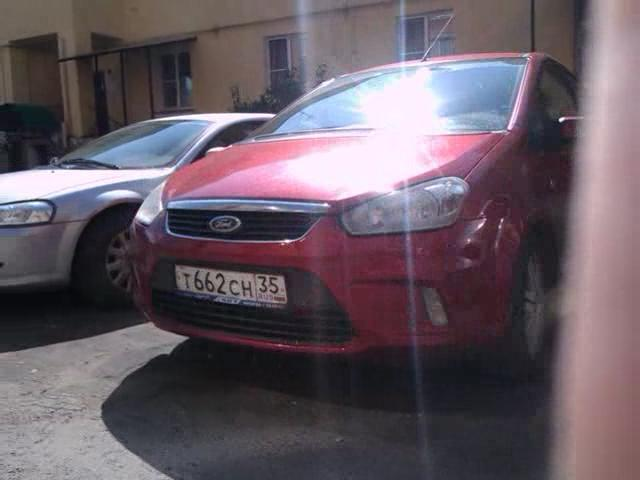car license plate: (170, 260, 287, 307)
